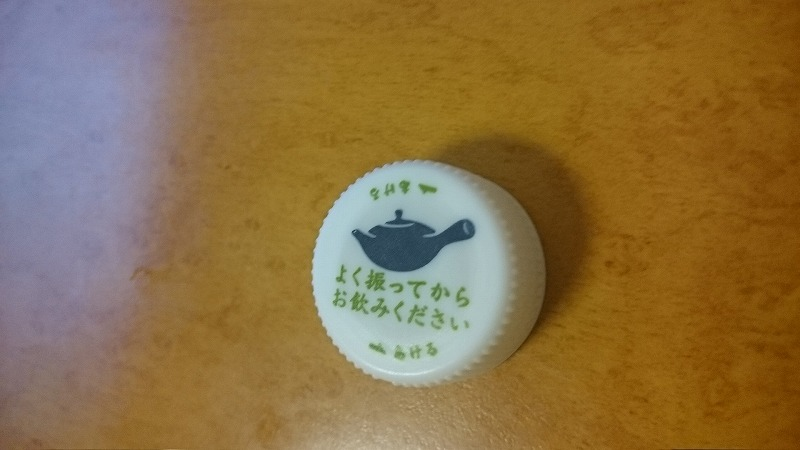A: (295, 148, 559, 387)
